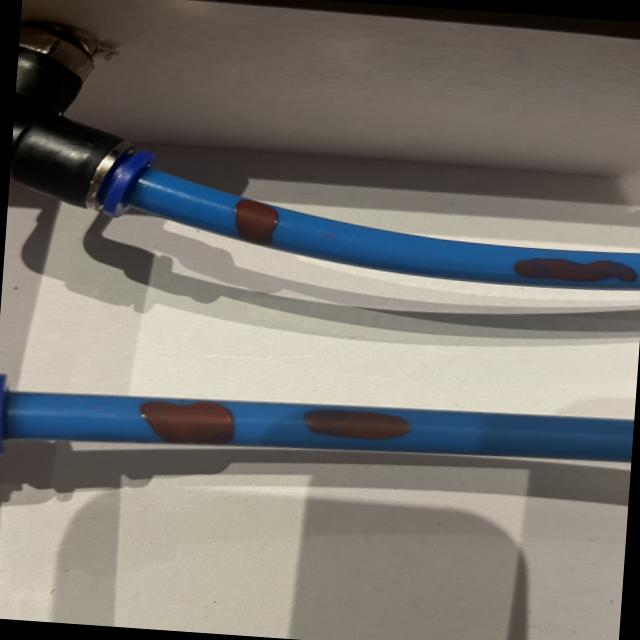hose_damage: (136, 390, 244, 451), (296, 402, 418, 447), (508, 252, 640, 291), (225, 190, 284, 252)
